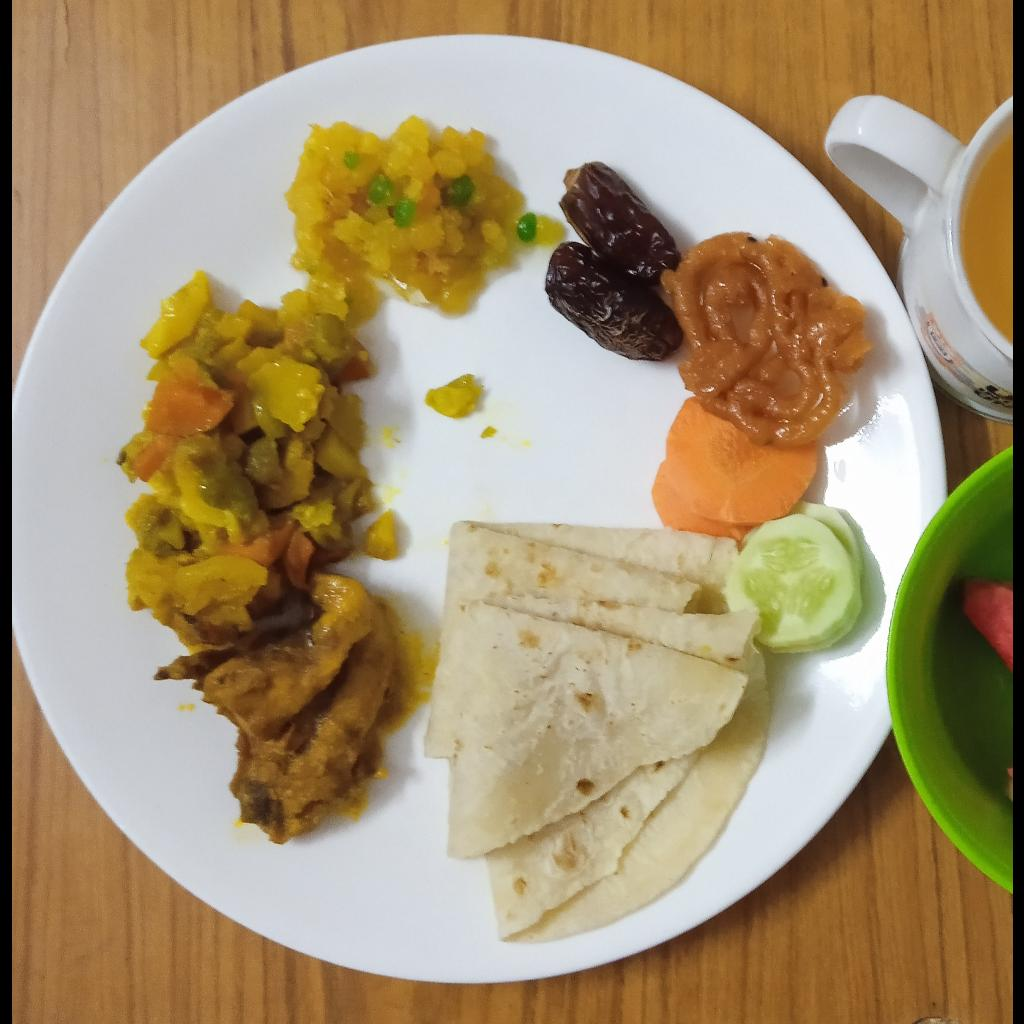burinda: (281, 117, 561, 329)
carrot: (650, 396, 819, 538)
chicken: (148, 572, 409, 847)
cucumber: (726, 501, 863, 653)
dates: (545, 160, 685, 363)
jilapi: (663, 232, 868, 446)
juice: (961, 135, 1013, 342)
ruti: (423, 522, 773, 944)
vegetable: (115, 269, 397, 650)
watermelon: (963, 581, 1013, 670)
